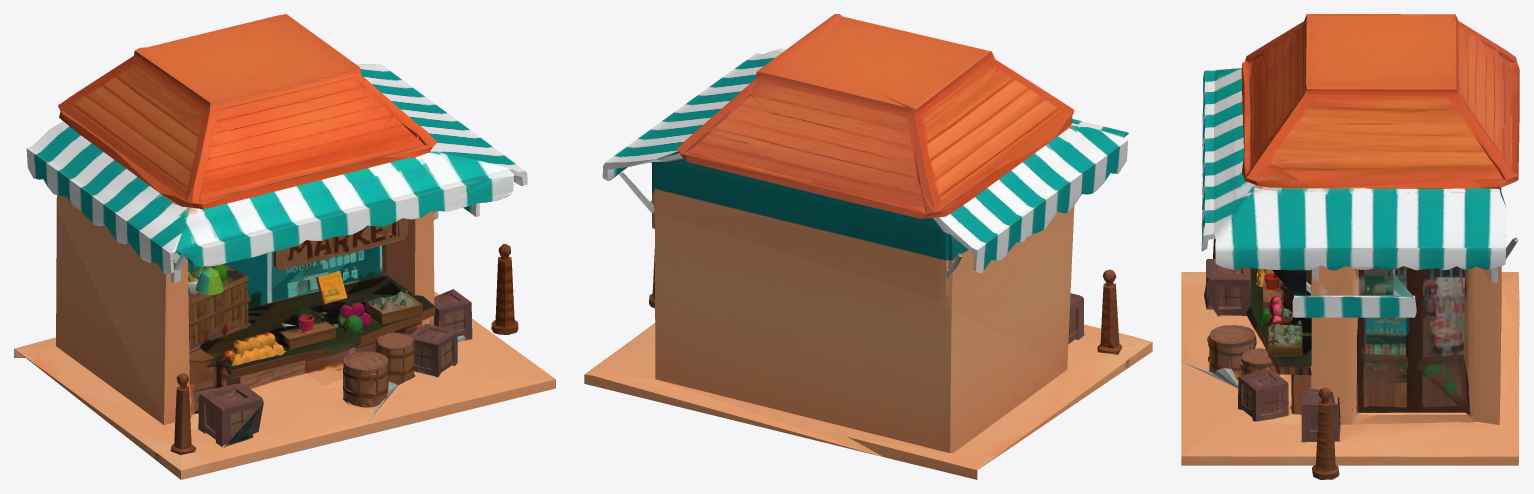
The model's file is shop2.glb.
3 views of the same model, side by side, from view 1: azimuth 30°, elevation 25°; view 2: azimuth 150°, elevation 25°; view 3: azimuth 270°, elevation 25° (orthographic). The views are drawn at different scales.
Bounding box in the file's own units: 1.9 × 1.38 × 1.35.
Materials: 1 (1 with a texture image).
